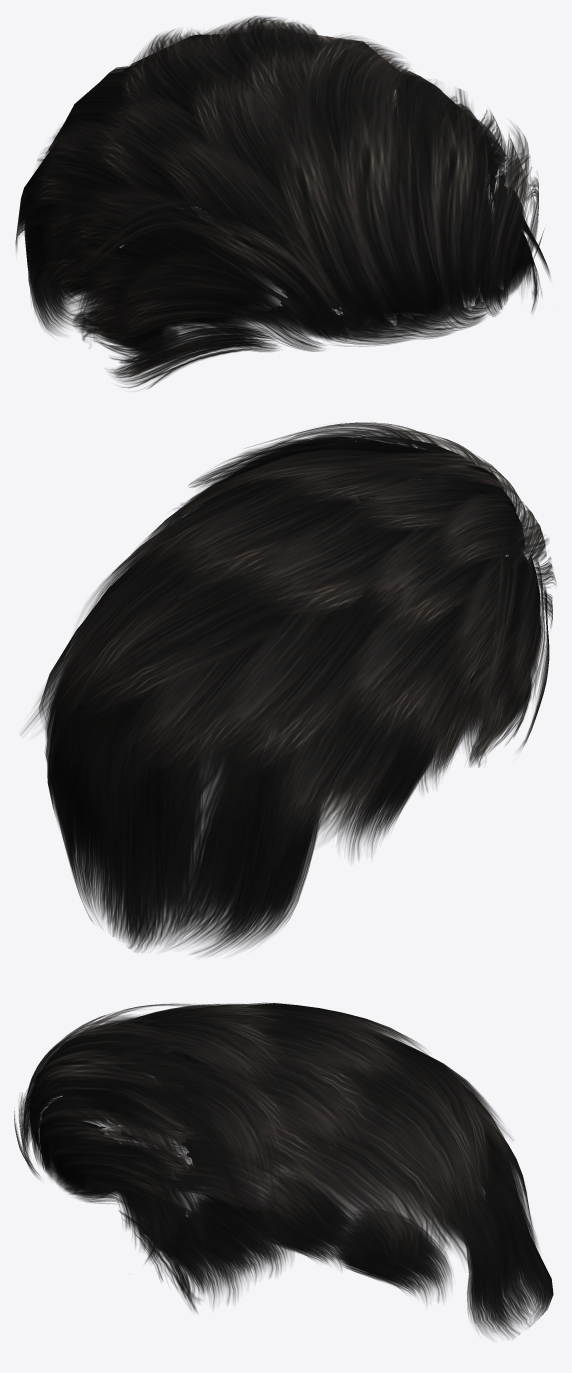
The model's file is Oblong_Straight_SlickBack.glb.
The picture shows the model from 3 angles, top to bottom: view 1: azimuth 30°, elevation 25°; view 2: azimuth 150°, elevation 25°; view 3: azimuth 270°, elevation 25°; orthographic projection. The views are drawn at different scales.
Visible parts, largest first — view 1: slick_back; view 2: slick_back; view 3: slick_back.
Part boxes in pixels (x1,y1,x2,y2): slick_back: (15, 16, 550, 388); slick_back: (20, 422, 556, 956); slick_back: (14, 1002, 553, 1338).
Size of the model in its own units: 0.1507 by 0.1421 by 0.2184.
1 material, 1 textured.
